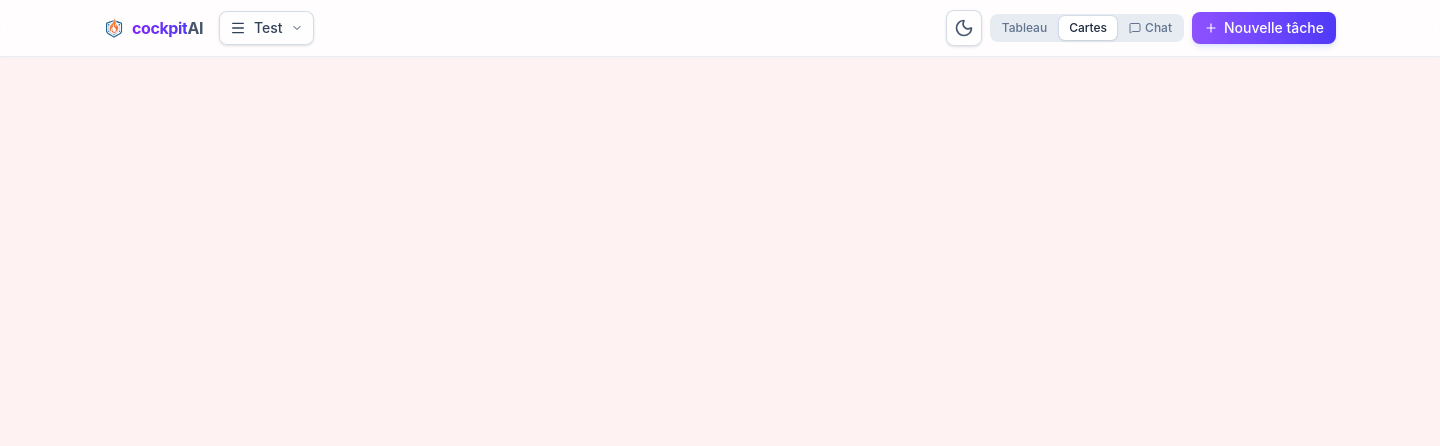
AppHeader — hierarchical project/chat grouping › shows project folder headers
This screenshot has width=1440, height=446.
Click the button "Test" at (266, 28), box [219,11,314,45]
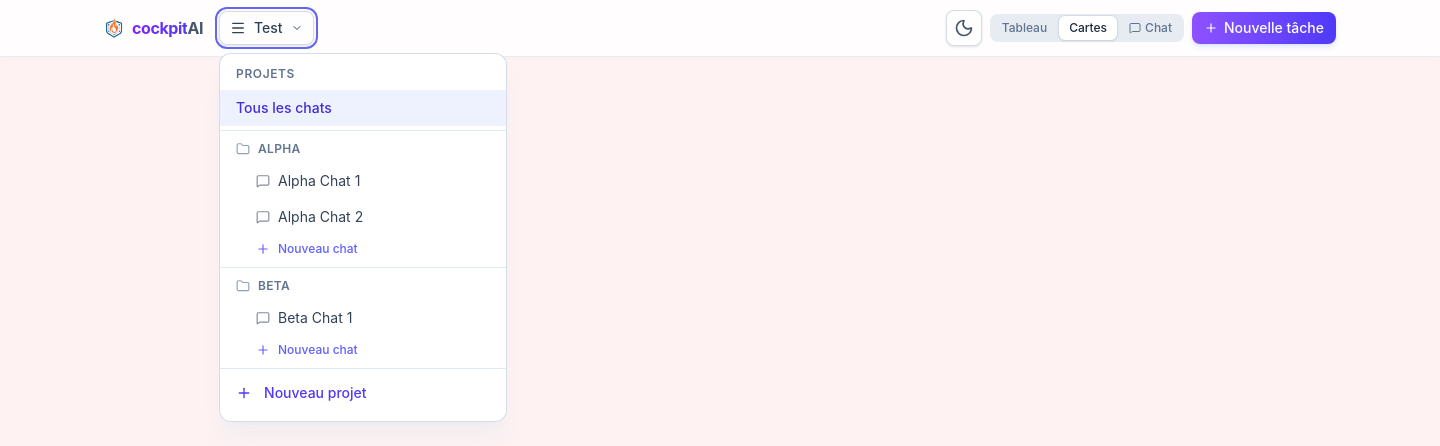
Expected: the text "alpha" is shown, [258,141,300,157]
Expected: the text "beta" is shown, [258,278,290,294]
